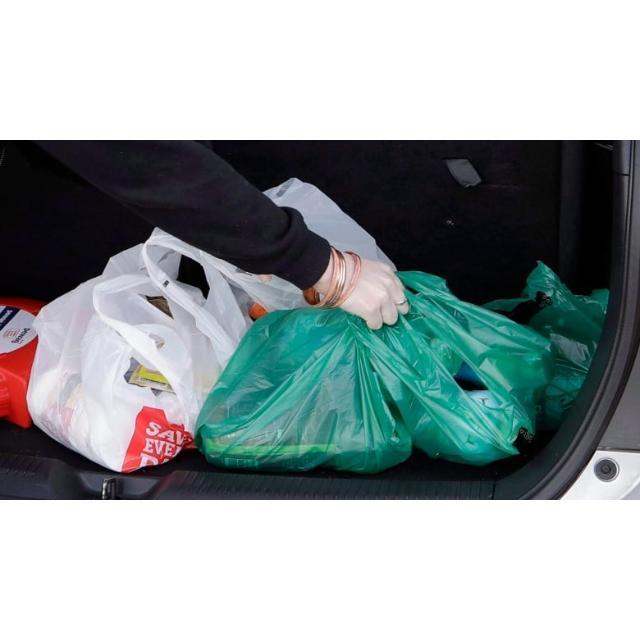Single-layer Plastic: (28, 229, 306, 472), (196, 309, 411, 472), (378, 271, 551, 464), (485, 261, 609, 429), (266, 179, 389, 263)
